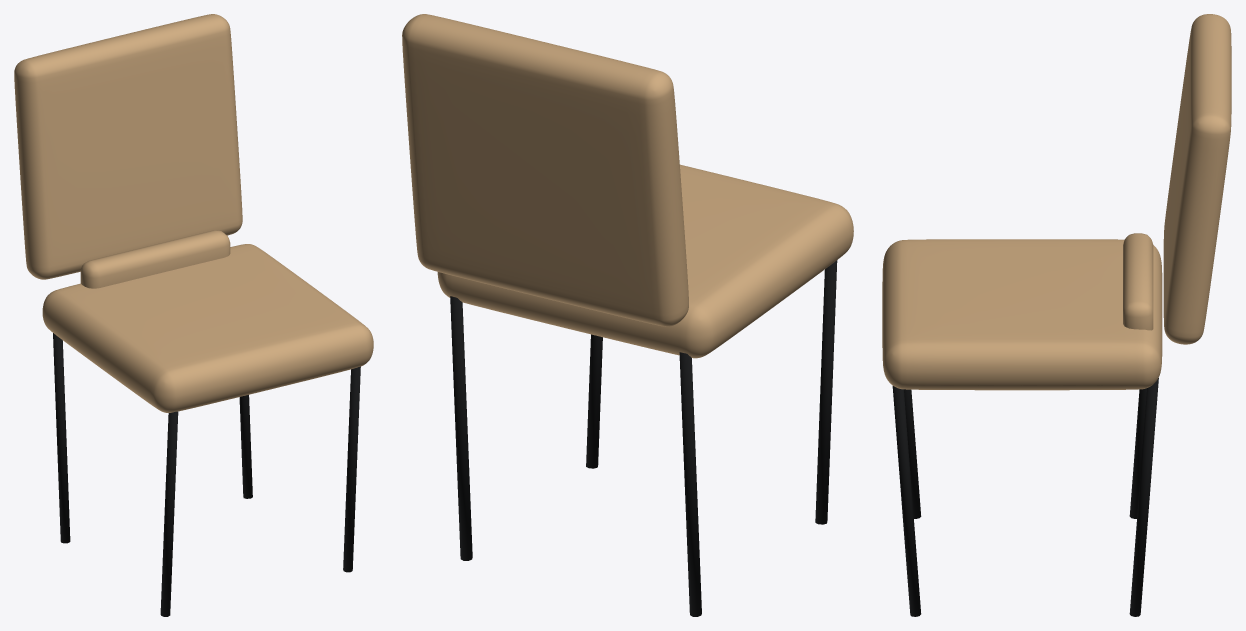
The model's file is bl_dining_chair.glb.
3 views of the same model, side by side, from view 1: azimuth 30°, elevation 25°; view 2: azimuth 150°, elevation 25°; view 3: azimuth 270°, elevation 25° (orthographic). The views are drawn at different scales.
Parts seen in each view (by area): view 1: back, seat, backJoin, leg.002, leg, leg.001, leg.003; view 2: back, seat, leg.002, leg.003, leg, leg.001; view 3: seat, back, backJoin, leg.003, leg.001, leg.002, leg.
Part boxes in pixels (x1,y1,x2,y2): back: [14, 14, 242, 279]; seat: [42, 244, 373, 412]; backJoin: [80, 230, 230, 288]; leg.002: [53, 333, 70, 543]; leg: [160, 411, 178, 616]; leg.001: [343, 366, 360, 572]; leg.003: [239, 395, 252, 498]; back: [402, 14, 688, 326]; seat: [437, 164, 853, 358]; leg.002: [679, 352, 701, 616]; leg.003: [450, 296, 472, 560]; leg: [815, 260, 837, 524]; leg.001: [586, 334, 602, 468]; seat: [882, 239, 1162, 390]; back: [1163, 14, 1231, 344]; backJoin: [1123, 233, 1153, 330]; leg.003: [1129, 378, 1158, 616]; leg.001: [892, 386, 921, 616]; leg.002: [1129, 388, 1146, 518]; leg: [904, 389, 921, 518].
Bounding box in the file's own units: 0.4597 × 0.9089 × 0.5731.
